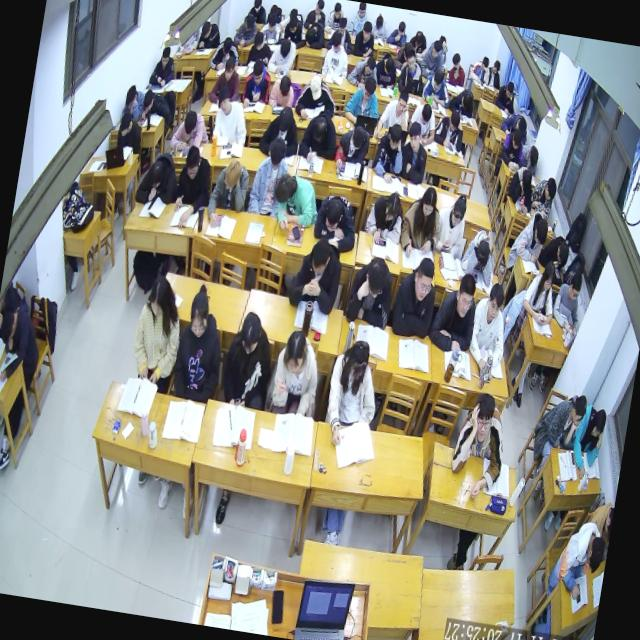bow: (446, 388, 514, 502), (395, 179, 448, 261), (266, 169, 322, 240), (310, 189, 362, 255), (134, 144, 182, 210), (256, 100, 306, 162), (296, 106, 344, 168), (458, 226, 501, 288), (293, 70, 341, 124), (168, 105, 214, 158), (346, 52, 382, 92), (538, 231, 572, 271), (139, 85, 174, 122), (498, 110, 532, 143), (446, 85, 477, 121), (196, 19, 223, 53), (302, 19, 329, 51), (393, 38, 417, 70), (408, 24, 430, 55)
down: (0, 294, 47, 387), (186, 288, 214, 340), (360, 254, 390, 302), (343, 338, 372, 384), (281, 328, 308, 377), (237, 309, 265, 356), (144, 276, 172, 322), (582, 532, 608, 574), (307, 238, 333, 280), (272, 170, 297, 208), (221, 156, 244, 193), (322, 196, 344, 234), (266, 136, 288, 174), (182, 144, 202, 182), (144, 158, 166, 192), (308, 113, 330, 147), (448, 193, 468, 230), (570, 392, 589, 430), (0, 304, 19, 341), (588, 407, 608, 441), (419, 186, 439, 220), (538, 261, 558, 294), (383, 189, 402, 223), (473, 236, 492, 268), (276, 106, 296, 136), (360, 74, 379, 104), (116, 108, 134, 138), (566, 271, 584, 301), (532, 215, 550, 245), (554, 238, 572, 268), (350, 124, 368, 154), (385, 122, 403, 152), (122, 83, 140, 112), (181, 109, 199, 138), (306, 74, 324, 102), (519, 166, 535, 196), (250, 58, 267, 86), (395, 88, 411, 116), (543, 176, 559, 203), (140, 88, 156, 114), (277, 72, 293, 98), (527, 142, 542, 168), (419, 100, 434, 126), (510, 124, 524, 150), (448, 107, 462, 133), (359, 20, 374, 43), (266, 12, 280, 36), (278, 38, 292, 62), (252, 28, 266, 51), (200, 19, 214, 41), (330, 32, 344, 54), (362, 54, 376, 76), (382, 56, 396, 78), (160, 44, 172, 68), (430, 38, 442, 62), (460, 88, 473, 110), (286, 14, 299, 35), (478, 54, 491, 74), (244, 12, 257, 32), (336, 16, 349, 36), (222, 35, 234, 56), (505, 78, 516, 100), (490, 58, 502, 78), (332, 1, 344, 21), (413, 28, 425, 48), (450, 52, 462, 72), (313, 0, 325, 17), (356, 3, 368, 20), (374, 13, 385, 31), (396, 20, 406, 38), (251, 0, 263, 14)
lookup: (469, 390, 499, 445), (410, 255, 438, 305), (452, 272, 479, 322), (483, 280, 508, 325), (406, 120, 424, 154), (215, 84, 234, 115), (222, 54, 238, 82), (404, 53, 418, 73)
sit: (168, 280, 234, 406), (126, 270, 191, 392), (320, 336, 386, 452), (217, 307, 280, 412), (267, 326, 327, 424), (546, 516, 609, 602), (284, 231, 346, 317), (426, 268, 482, 358), (464, 276, 514, 376), (388, 253, 442, 343), (342, 250, 398, 333), (168, 142, 217, 235), (246, 134, 296, 220), (202, 153, 252, 235), (532, 385, 588, 452), (209, 82, 254, 149), (568, 402, 608, 477), (520, 259, 562, 328), (363, 184, 408, 245), (432, 189, 470, 258), (368, 120, 408, 184), (342, 71, 386, 128), (506, 207, 550, 264), (550, 266, 588, 331), (374, 84, 414, 145), (398, 118, 433, 187), (331, 121, 372, 177), (208, 54, 245, 110), (239, 58, 275, 112), (505, 158, 539, 214), (396, 46, 430, 97), (432, 104, 468, 152), (320, 29, 354, 78), (406, 98, 441, 144), (419, 66, 454, 110), (498, 122, 530, 170), (527, 173, 559, 220), (114, 109, 146, 155), (149, 40, 179, 88), (208, 32, 242, 72), (266, 36, 298, 78), (278, 8, 310, 48), (420, 36, 449, 80), (245, 27, 275, 68), (326, 15, 356, 55), (372, 50, 402, 88), (267, 72, 297, 110), (257, 8, 285, 48), (352, 18, 379, 59), (232, 10, 261, 48), (494, 75, 520, 113), (302, 0, 330, 34), (346, 2, 371, 39), (384, 17, 410, 51), (446, 51, 469, 89), (518, 142, 542, 177), (324, 0, 347, 36), (468, 54, 492, 88), (370, 9, 392, 42), (485, 58, 504, 90), (248, 0, 270, 23)
